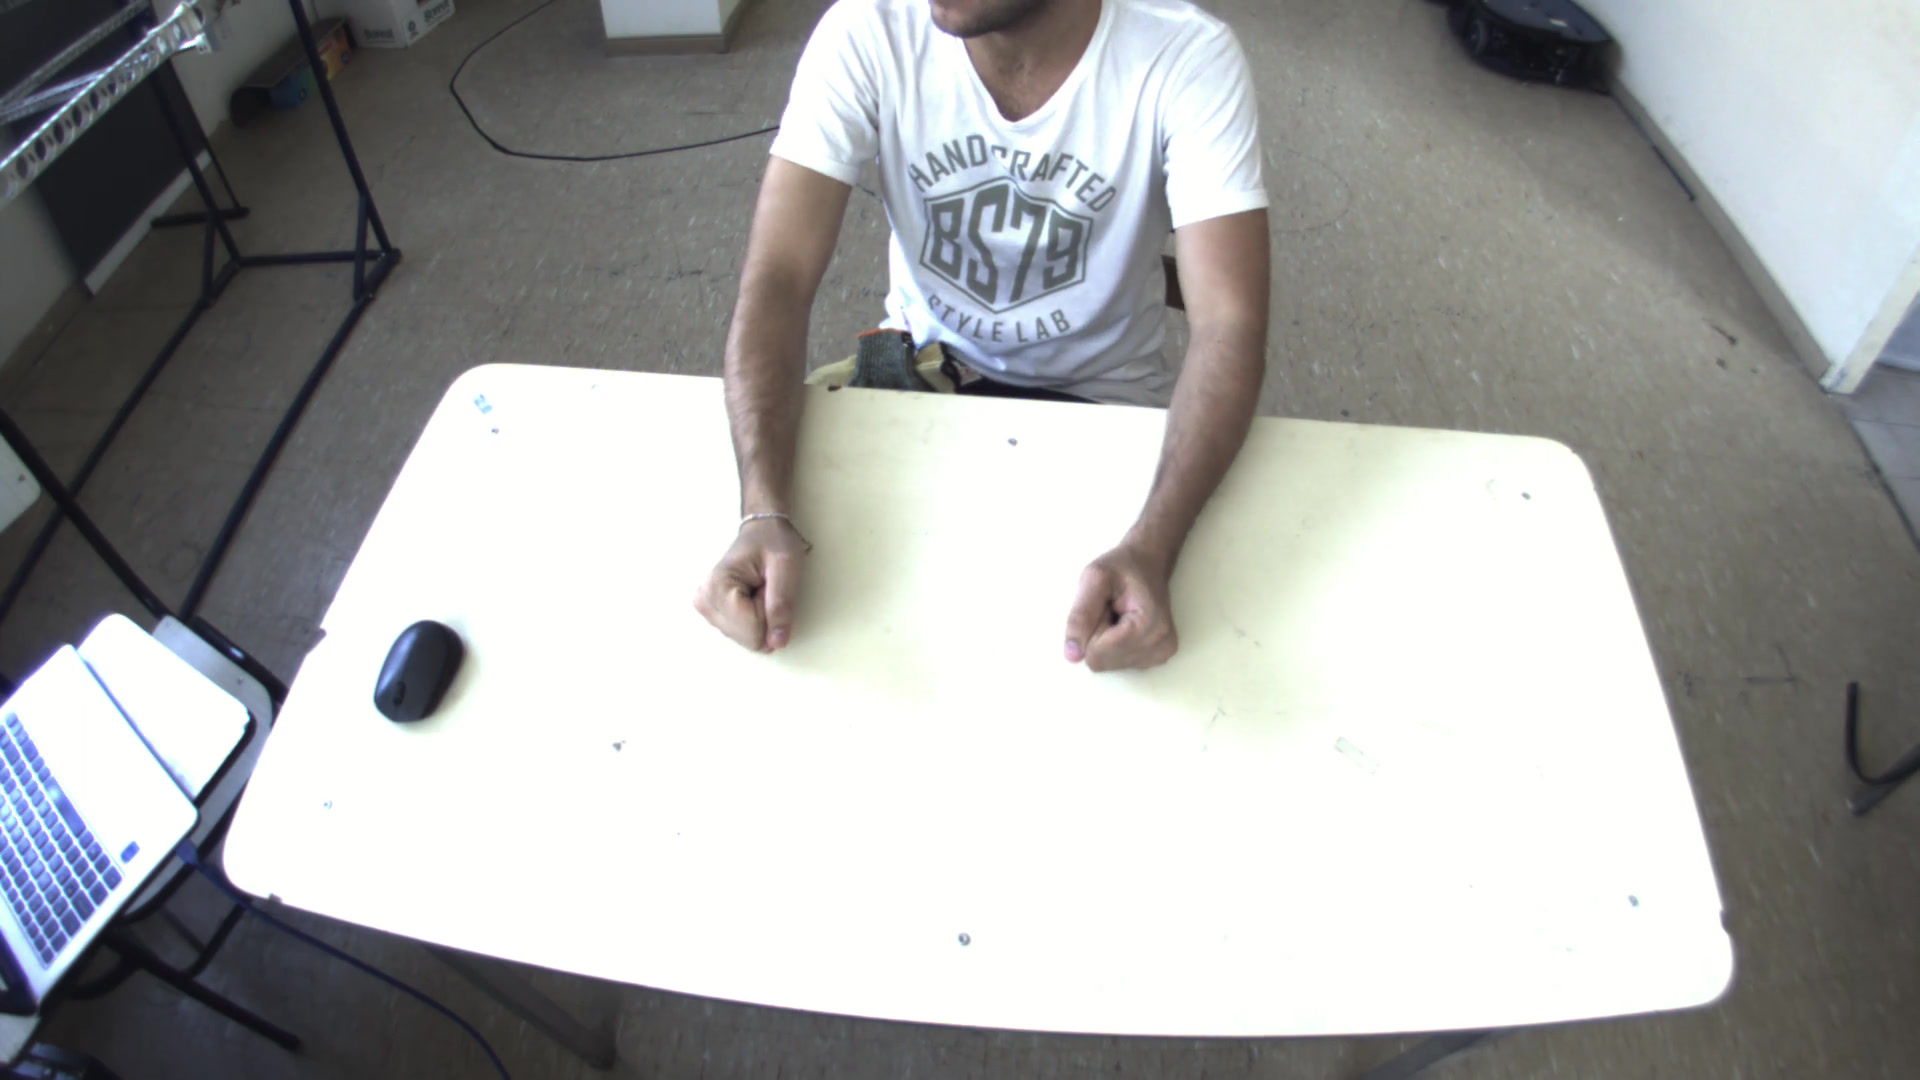hand: (680, 495, 814, 659), (1058, 533, 1193, 678)
